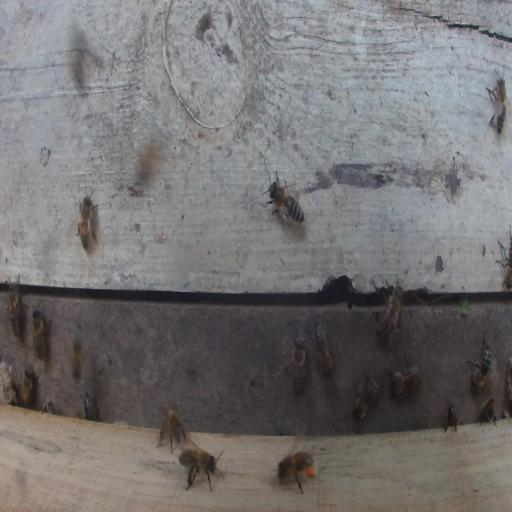bee: (265, 174, 307, 228), (375, 279, 404, 344), (386, 349, 422, 399), (275, 453, 318, 494), (305, 320, 333, 380), (156, 399, 186, 453), (178, 448, 218, 488), (485, 66, 508, 133), (352, 370, 379, 422), (466, 335, 492, 389), (6, 272, 25, 340), (32, 302, 53, 361), (74, 192, 94, 253), (494, 223, 512, 290), (18, 354, 39, 409), (290, 333, 306, 396), (70, 330, 84, 381), (80, 388, 100, 421), (478, 398, 499, 427), (444, 404, 457, 434)
